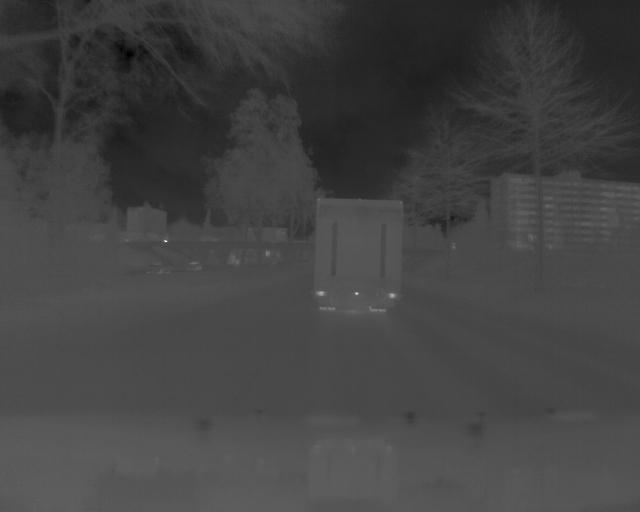car: (142, 256, 176, 275), (185, 257, 204, 272)
